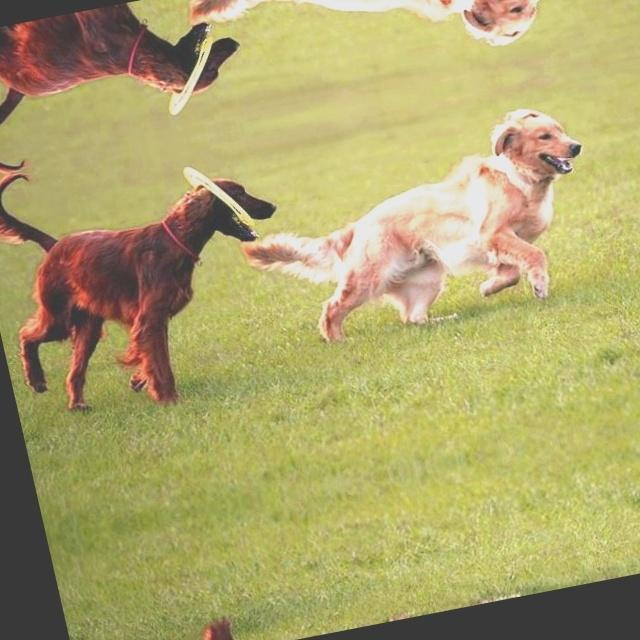dog: (268, 93, 620, 351), (230, 0, 564, 96), (372, 556, 640, 624)
